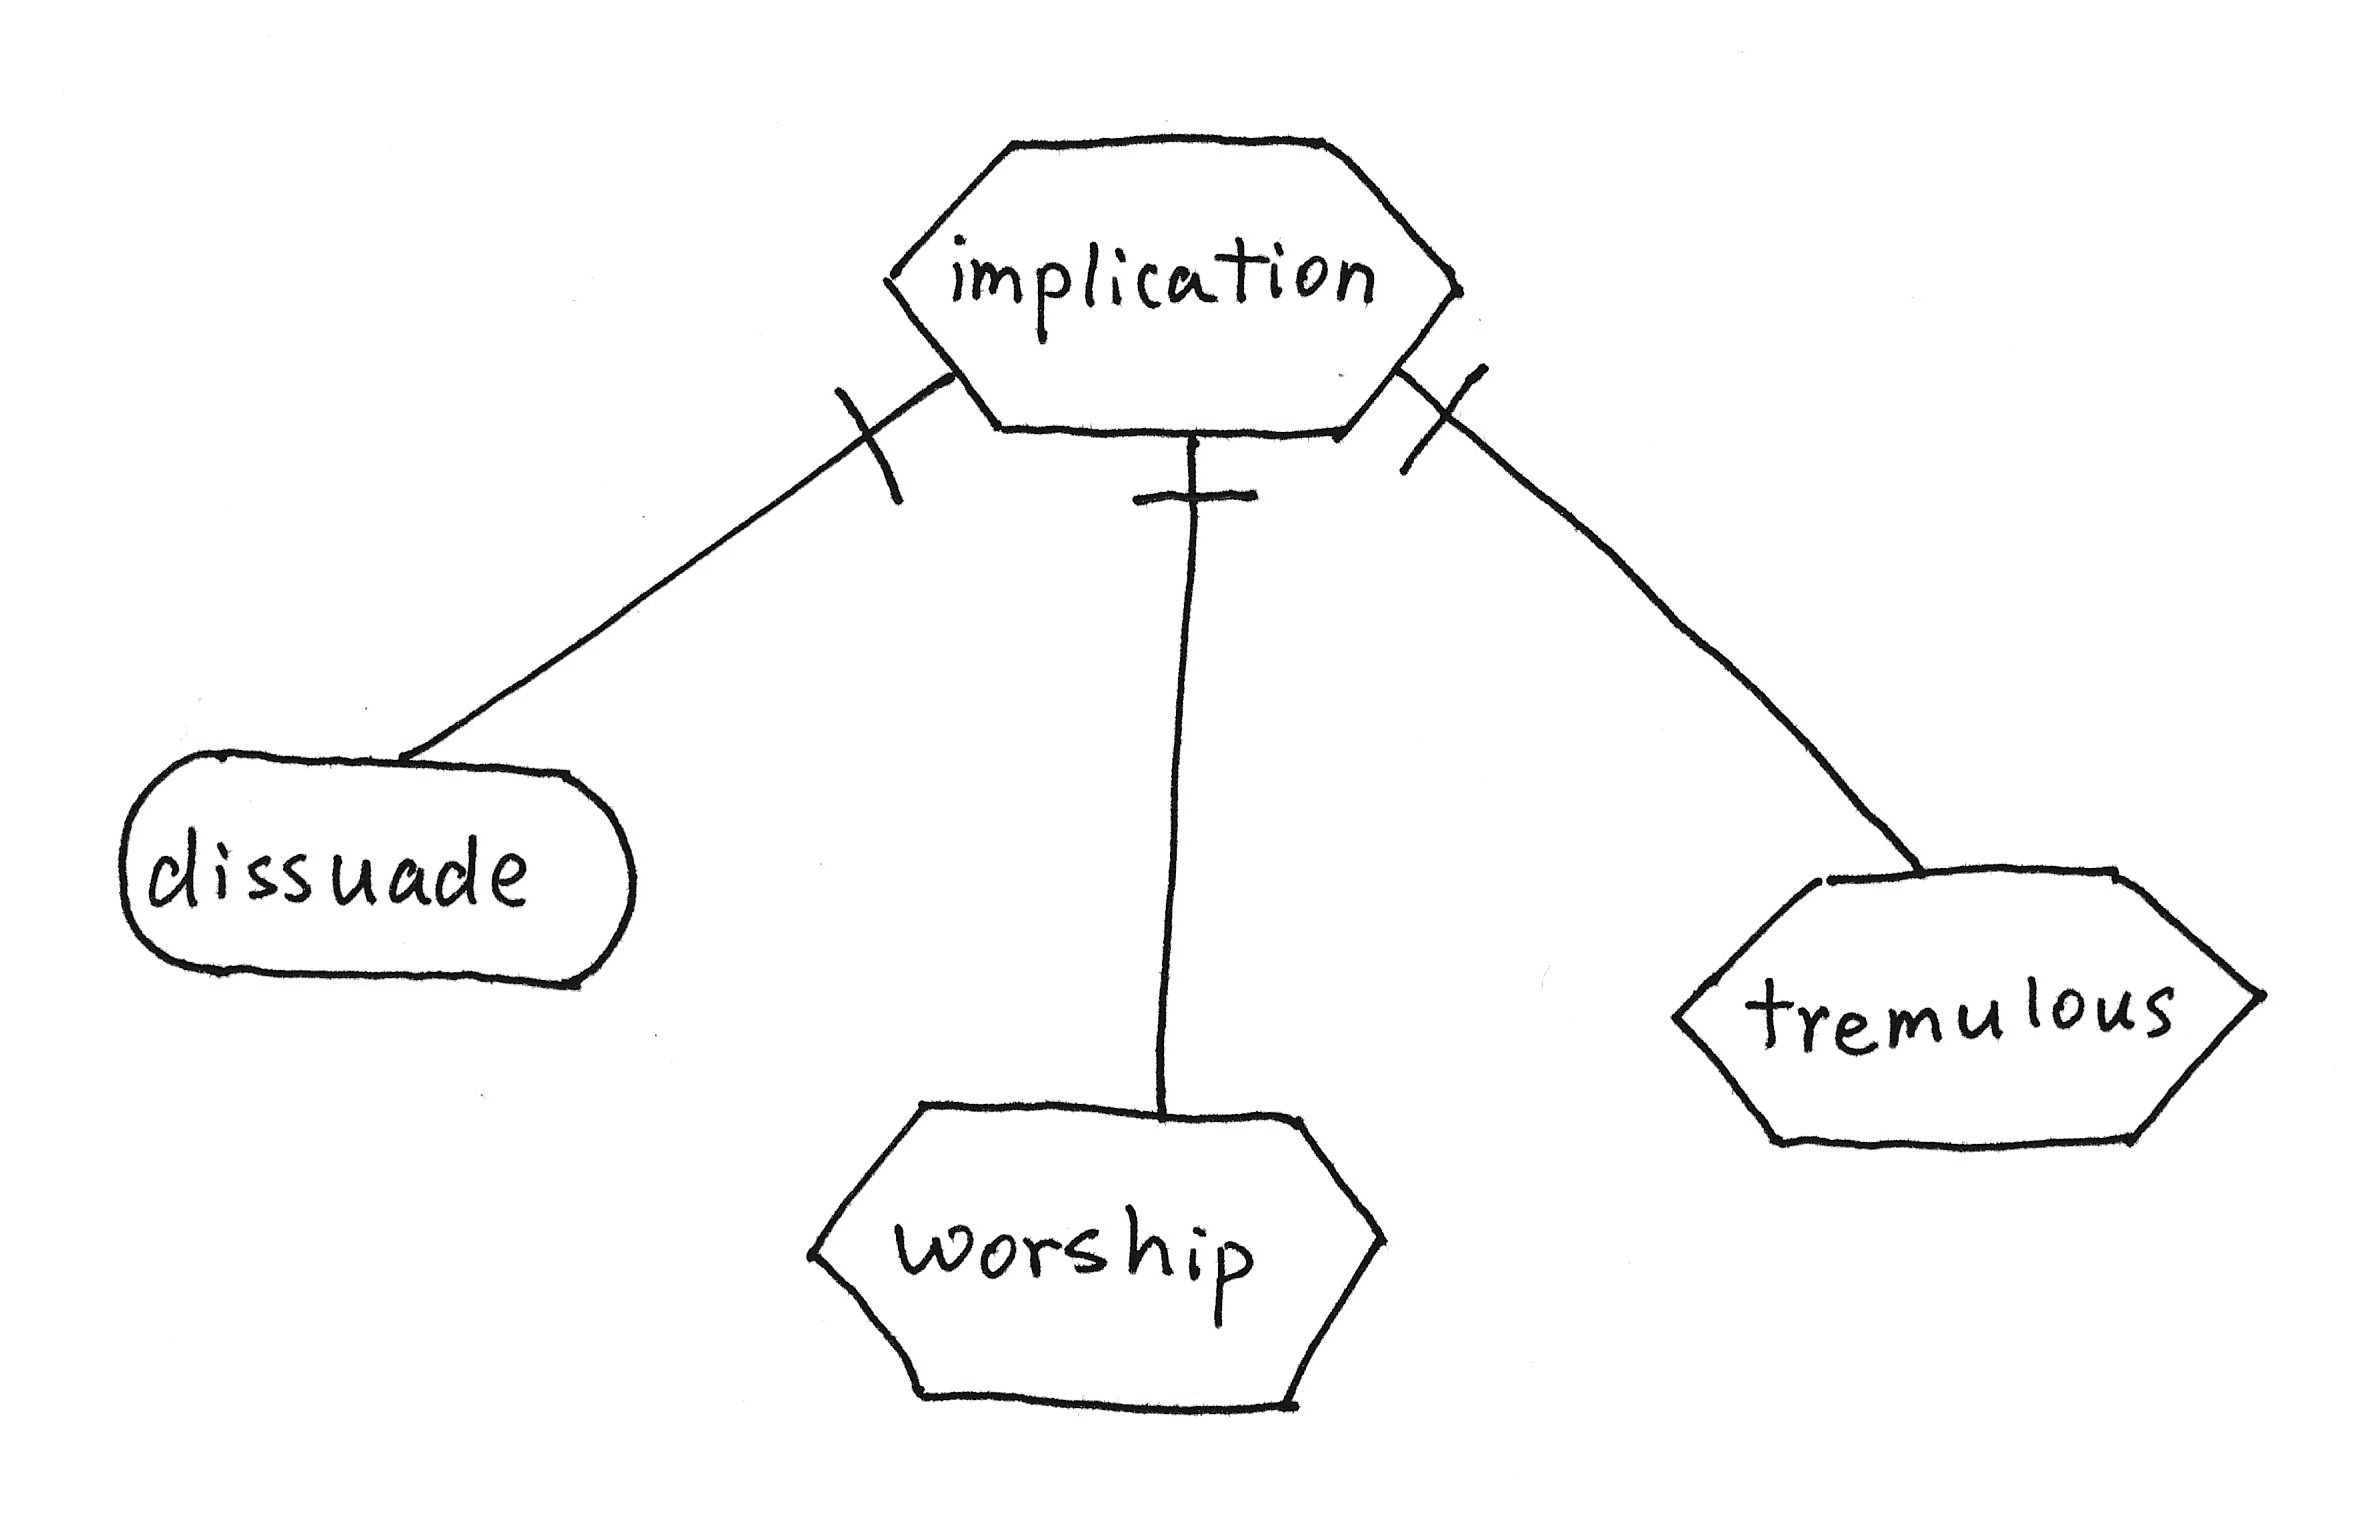and: (815, 351, 973, 515), (1369, 345, 1506, 482), (1119, 425, 1268, 524)
goal: (95, 727, 659, 1007)
task: (867, 104, 1485, 465), (796, 1078, 1409, 1435), (1644, 845, 2286, 1177)
